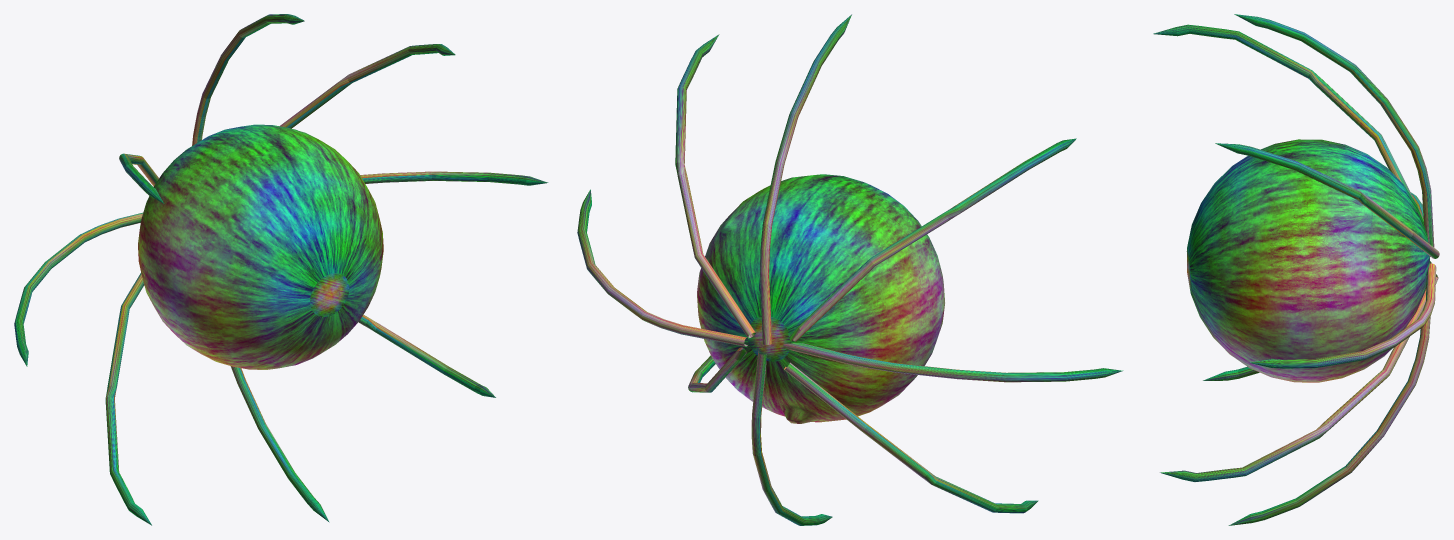
File: chironex.glb
The picture shows the model from 3 angles, left to right: view 1: azimuth 30°, elevation 25°; view 2: azimuth 150°, elevation 25°; view 3: azimuth 270°, elevation 25°; orthographic projection.
Visible parts, largest first — view 1: Sphere; view 2: Sphere; view 3: Sphere.
Part boxes in pixels (x1,y1,x2,y2): Sphere: [14, 14, 548, 525]; Sphere: [577, 14, 1123, 525]; Sphere: [1153, 14, 1439, 525].
Size of the model in its own units: 6.96 by 6.4 by 3.33.
1 material, 1 textured.
